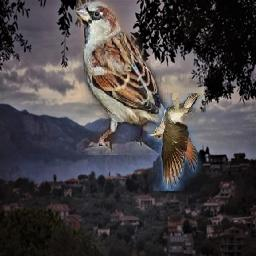Cuckoo: (147, 93, 229, 191)
Sparrow: (77, 0, 186, 155)
